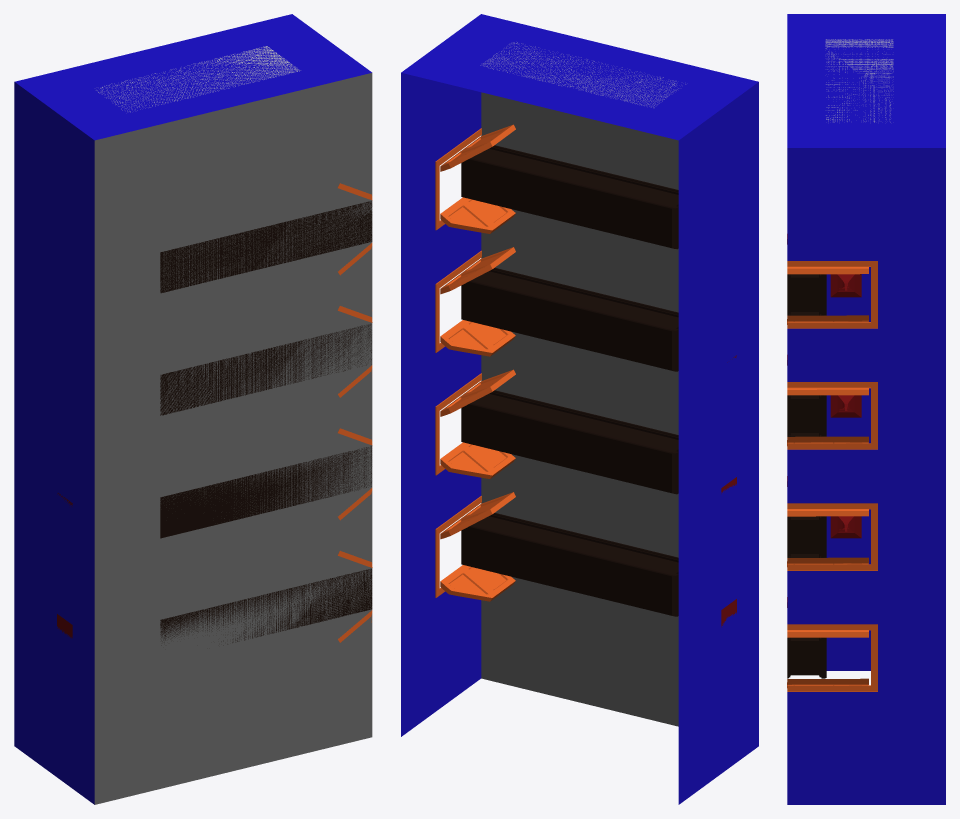
Rendered from room.obj.
3 renders of one model, left to right at view 1: azimuth 30°, elevation 25°; view 2: azimuth 150°, elevation 25°; view 3: azimuth 270°, elevation 25°, orthographic.
Visible parts, largest first — view 1: Floor, PareteDx, tables, PareteFronte, pICTURE; view 2: Floor, PareteDx, tables, PareteSx, PareteFronte, ContornoPorta, dOOR6, dOOR8, dOOR4, dOOR2, pICTURE, dOOR1 (+3 smaller); view 3: PareteSx, PareteFronte, tables, ContornoPorta, PareteDx, spillatori2, pICTURE, dOOR3, dOOR5, dOOR7, dOOR1, dOOR4 (+3 smaller).
Part boxes in pixels (bbox=[...]): Floor: bbox=[94, 73, 372, 804]; PareteDx: bbox=[14, 82, 94, 804]; tables: bbox=[160, 201, 372, 645]; PareteFronte: bbox=[15, 14, 371, 140]; pICTURE: bbox=[96, 46, 300, 112]; Floor: bbox=[481, 92, 678, 726]; PareteDx: bbox=[678, 82, 758, 804]; tables: bbox=[461, 145, 678, 616]; PareteSx: bbox=[401, 72, 481, 736]; PareteFronte: bbox=[401, 14, 758, 140]; ContornoPorta: bbox=[435, 128, 481, 597]; dOOR6: bbox=[440, 442, 515, 478]; dOOR8: bbox=[440, 565, 515, 601]; dOOR4: bbox=[440, 320, 515, 356]; dOOR2: bbox=[440, 197, 515, 233]; pICTURE: bbox=[480, 42, 685, 107]; dOOR1: bbox=[440, 124, 515, 171]; PareteSx: bbox=[787, 148, 945, 804]; PareteFronte: bbox=[787, 14, 945, 147]; tables: bbox=[787, 274, 826, 678]; ContornoPorta: bbox=[787, 261, 877, 691]; PareteDx: bbox=[826, 267, 870, 670]; spillatori2: bbox=[830, 274, 861, 538]; pICTURE: bbox=[825, 39, 893, 122]; dOOR3: bbox=[787, 355, 868, 395]; dOOR5: bbox=[787, 476, 868, 516]; dOOR7: bbox=[787, 597, 868, 637]; dOOR1: bbox=[787, 234, 868, 274]; dOOR4: bbox=[787, 436, 868, 445].
Bounding box in the file's own units: 7 × 16 × 3.5.
